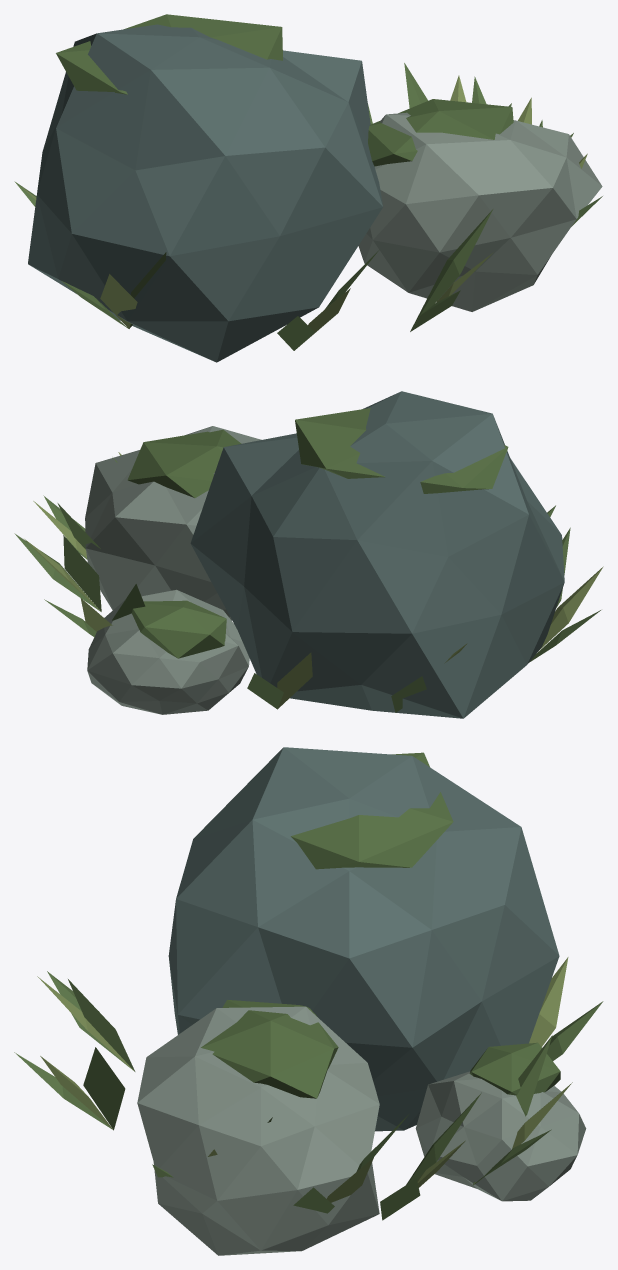
File: mossy-rock-cluster.glb
3 views of the same model, one above another, from view 1: azimuth 30°, elevation 25°; view 2: azimuth 150°, elevation 25°; view 3: azimuth 270°, elevation 25° (orthographic). The views are drawn at different scales.
Visible parts, largest first — view 1: mossy-rock-cluster; view 2: mossy-rock-cluster; view 3: mossy-rock-cluster.
Part boxes in pixels (<box>): mossy-rock-cluster: <box>14,14,602,362</box>; mossy-rock-cluster: <box>14,391,603,718</box>; mossy-rock-cluster: <box>14,747,603,1255</box>.
Bounding box in the file's own units: 2.92 × 1.52 × 2.47.
